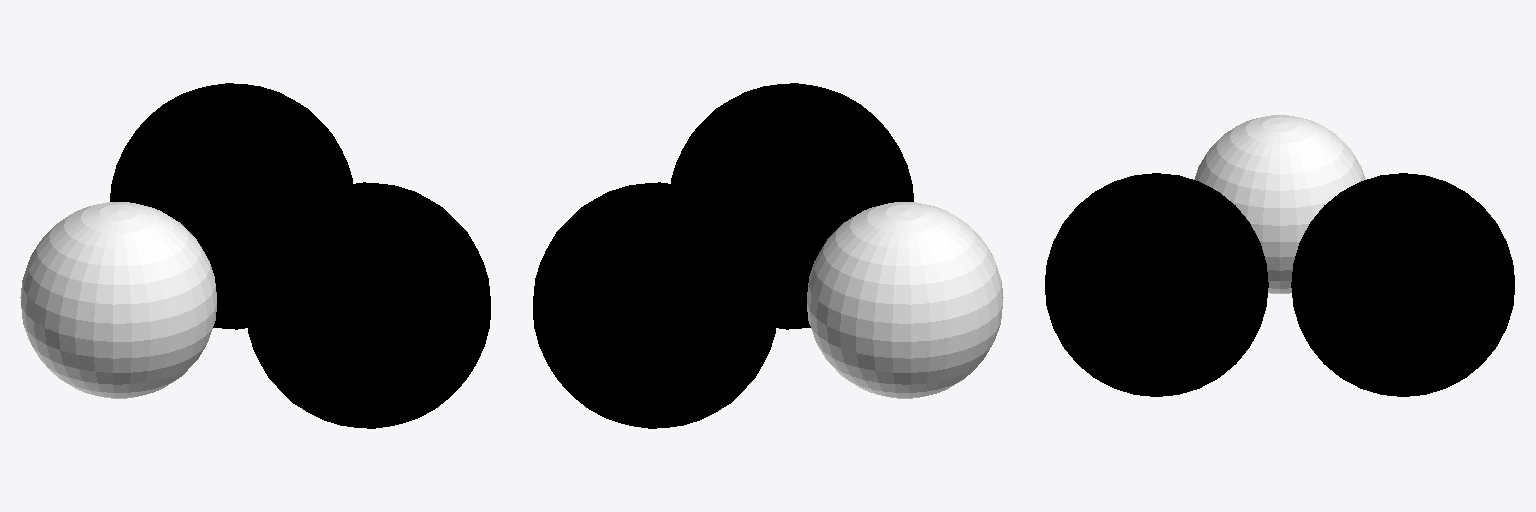
robot.urdf — my_robot:
<?xml version="1.0"?>
<robot name="my_robot" xmlns:xacro="http://www.ros.org/wiki/xacro">

  <material name="orange">
    <color rgba="0.8 0.4 0.0 1.0"/>
  </material>

  <material name="black">
    <color rgba="0 0 0 1.0"/>
  </material>

  <material name="white">
    <color rgba="1 1 1 1.0"/>
  </material>
  <!-- Base Link -->
  <link name="chassis">
   <collision>
    <origin xyz="0 0 0.07" rpy="0 0 0"/>
    <geometry><box size="0.3 0.2 0.1"/></geometry>
   </collision>
   <inertial>
    <origin xyz="0 0 0.07" rpy="0 0 0"/>
    <mass value="1.0"/>
    <inertia ixx="0.004167" ixy="0" ixz="0" iyy="0.008333" iyz="0" izz="0.010833"/>
   </inertial>
    <visual>
      <origin xyz="0 0 0" rpy="0 0 0"/>
     
      <geometry>
        <mesh
          filename="package://my_robot_sim/meshes/body2.stl"
          scale="0.001 0.001 0.001"/>
      </geometry>
    </visual>
  </link>

  <joint name="left_wheel_joint" type="continuous">
    <origin xyz="0.05 0.11 0.04" rpy="-1.5707 0 0"/>
    <parent link="chassis"/>
    <child link="left_wheel"/>
    <axis xyz="0 0 1"/>
    <dynamics damping="0.2"/>
  </joint>

  <!-- left wheel Link -->
  <link name="left_wheel">
    <collision>
      <geometry>
        <sphere radius="0.1"/>
      </geometry>
    </collision>

    <visual>
      <geometry>
        <sphere radius="0.1"/>
      </geometry>
      <material name="black"/>
    </visual>

    <inertial>
      <mass value="2"/>
      <inertia ixx="0.145833"
               ixy="0.0"
               ixz="0.0"
               iyy="0.145833"
               iyz="0.0"
               izz="0.125"/>
    </inertial>
  </link>

  <joint name="right_wheel_joint" type="continuous">
    <origin xyz="0.05 -0.11 0.04" rpy="-1.5707 0 0"/>
    <parent link="chassis"/>
    <child link="right_wheel"/>
    <axis xyz="0 0 1"/>
    <dynamics damping="0.2"/>
  </joint>

  <!-- right wheel Link -->
  <link name="right_wheel">
    <collision>
      <geometry>
        <sphere radius="0.1"/>
      </geometry>
    </collision>

    <visual>
      <geometry>
        <sphere radius="0.1"/>
      </geometry>
      <material name="black"/>
    </visual>

    <inertial>
      <mass value="2"/>
      <inertia ixx="0.145833"
               ixy="0.0"
               ixz="0.0"
               iyy="0.145833"
               iyz="0.0"
               izz="0.125"/>
      </inertial>
  </link>

  <joint name="caster_joint" type="fixed">
    <origin xyz="-0.12 0 0.04" rpy="0 0 0"/>
    <parent link="chassis"/>
    <child link="caster"/>
  </joint>

  <!-- caster frontal wheel Link -->
  <link name="caster">
    <collision>
      <geometry>
        <sphere radius="0.08"/>
      </geometry>
    </collision>

    <visual>
      <geometry>
        <sphere radius="0.08"/>
      </geometry>
      <material name="white"/>
    </visual>

    <inertial>
      <origin xyz="-0.957138 -0 0.2" rpy="0 0 0"/>
      <mass value="0.005"/>
      <inertia
        ixx="0.1"
        ixy="0.0"
        ixz="0.0"
        iyy="0.1"
        iyz="0.0"
        izz="0.1"/>
    </inertial>
  </link>

  <ros2_control name="GazeboSimSystem" type="system">
    <hardware>
      <plugin>gz_ros2_control/GazeboSimSystem</plugin>
    </hardware>
    <joint name="left_wheel_joint">
      <command_interface name="velocity">
        <param name="min">-1</param>
        <param name="max">1</param>
      </command_interface>
      <state_interface name="position"/>
      <state_interface name="velocity"/>
    </joint>
    <joint name="right_wheel_joint">
      <command_interface name="velocity">
        <param name="min">-1</param>
        <param name="max">1</param>
      </command_interface>
      <state_interface name="position"/>
      <state_interface name="velocity"/>
    </joint>
  </ros2_control>

  <gazebo>
    <plugin filename="gz_ros2_control-system" name="gz_ros2_control::GazeboSimROS2ControlPlugin">
<!--       <parameters>/home/kimuro/nav2_ws/install/my_robot_sim/share/my_robot_sim/config/controllers.yaml</parameters>-->
           <parameters>CONTROLLERS_YAML</parameters>
    </plugin>
  </gazebo>
</robot>

--- What the picture shows (computed from the rendered views, not written in the file) ---
3 views of the same robot in one strip: view 1: azimuth 30°, elevation 25°; view 2: azimuth 150°, elevation 25°; view 3: azimuth 270°, elevation 25° (orthographic).
Model my_robot with 4 links and 3 joints (2 continuous, 1 fixed), rooted at chassis, posed all joints at 0.
Visible links, largest first — view 1: right_wheel, caster, left_wheel; view 2: left_wheel, caster, right_wheel; view 3: left_wheel, right_wheel, caster.
Link boxes in pixels (x1,y1,x2,y2): right_wheel: (245, 182, 490, 428); caster: (20, 202, 216, 398); left_wheel: (110, 83, 352, 329); left_wheel: (533, 182, 778, 428); caster: (807, 202, 1003, 398); right_wheel: (671, 83, 913, 329); left_wheel: (1291, 173, 1514, 396); right_wheel: (1045, 173, 1268, 396); caster: (1194, 115, 1365, 293).
Size in the robot's own frame: 0.35 by 0.42 by 0.2 metres.
0 mesh visuals loaded from 1 distinct referenced files (none loaded); not drawn: 1 (reference not matched to a file when rendering).
